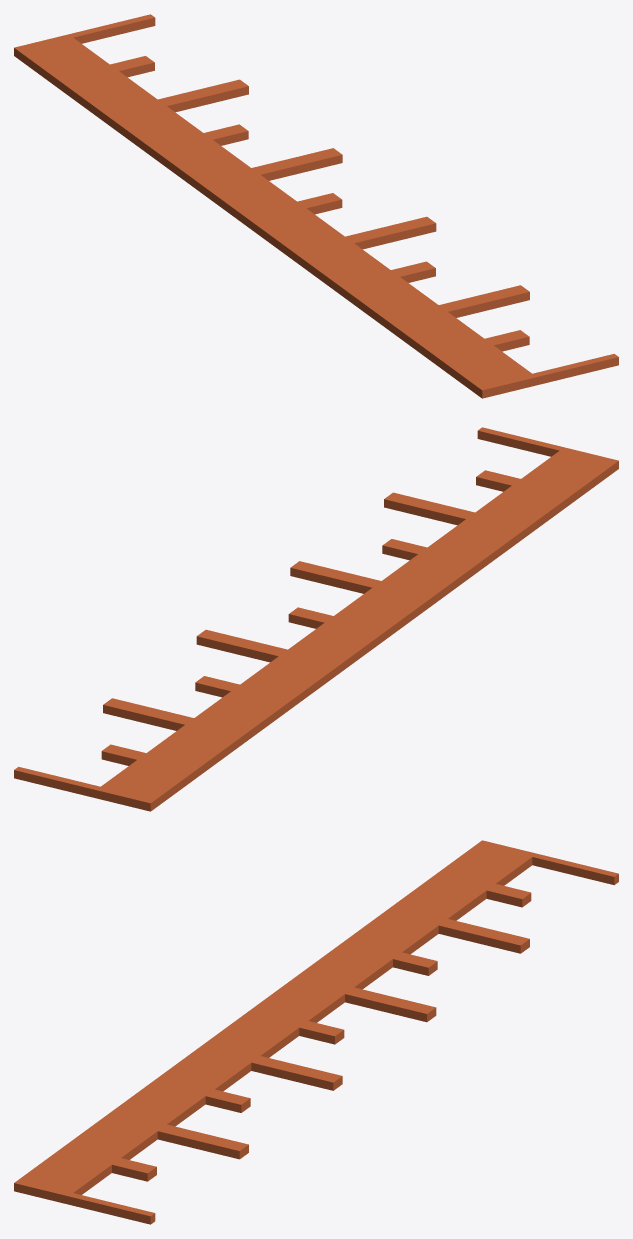
Rendered from altimeter-ath.fbx.
The picture shows the model from 3 angles, top to bottom: view 1: azimuth 30°, elevation 25°; view 2: azimuth 150°, elevation 25°; view 3: azimuth 330°, elevation 25°; orthographic projection.
Parts seen in each view (by area): view 1: Plane.001; view 2: Plane.001; view 3: Plane.001.
Boxes of the visible parts, bbox=[...] form: Plane.001: bbox=[14, 14, 618, 398]; Plane.001: bbox=[14, 427, 618, 811]; Plane.001: bbox=[14, 840, 618, 1224].
Bounding box in the file's own units: 17.28 × 1 × 102.
